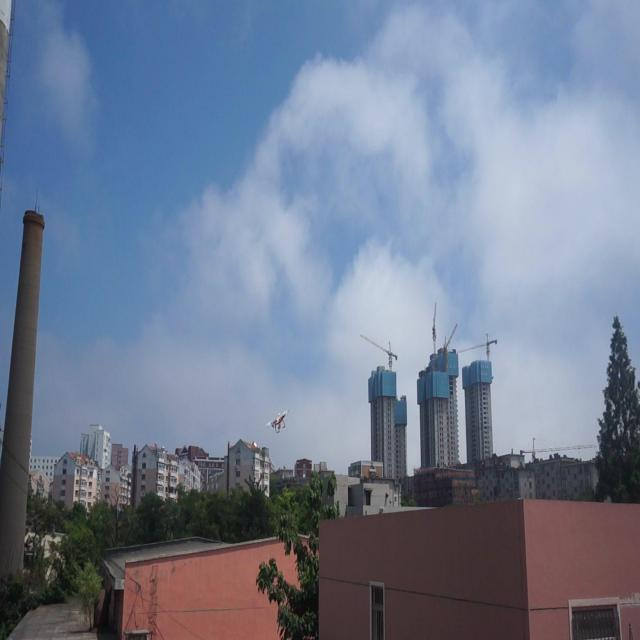UAV: (266, 408, 290, 433)
